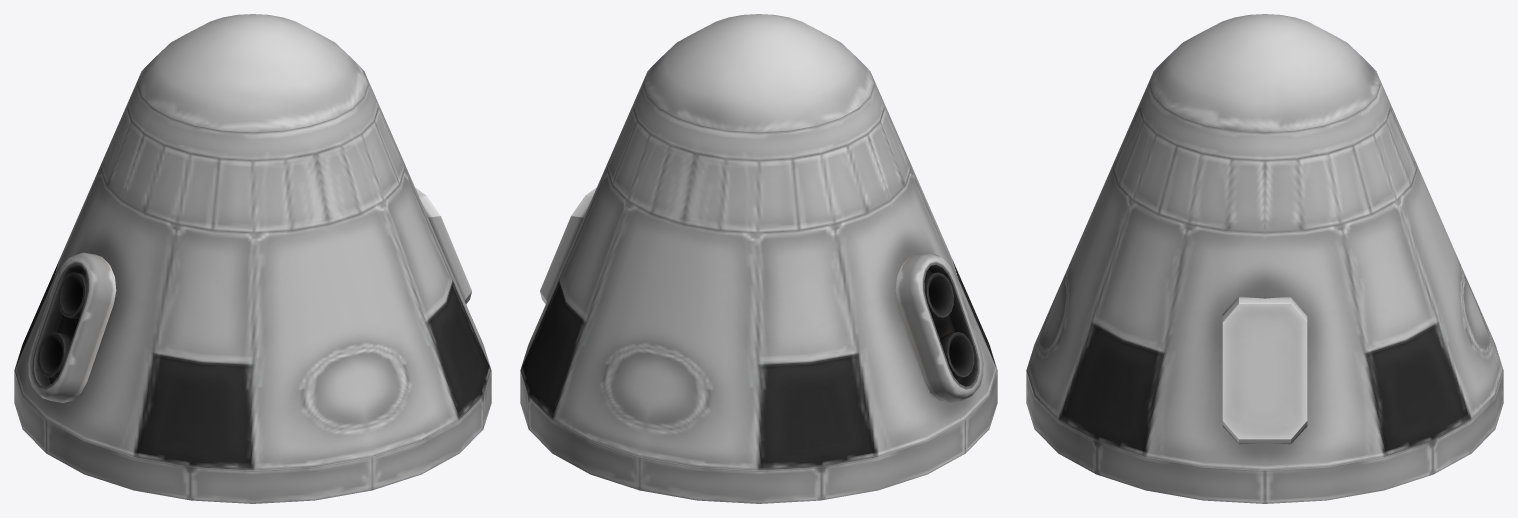
Rendered from Soltan_Nosecone.dae.
The picture shows the model from 3 angles, left to right: view 1: azimuth 30°, elevation 25°; view 2: azimuth 150°, elevation 25°; view 3: azimuth 270°, elevation 25°; orthographic projection.
Visible parts, largest first — view 1: Soltan_Nosecone, Titan_Aft_Separatron2, pCube58, thrustTransform_ncl1_1, thrustTransform; view 2: Soltan_Nosecone, Titan_Aft_Separatron2, pCube58, thrustTransform_ncl1_1, thrustTransform; view 3: Soltan_Nosecone, pCube58.
Boxes of the visible parts, <box> form: Soltan_Nosecone: <box>14,14,491,503</box>; Titan_Aft_Separatron2: <box>28,252,116,402</box>; pCube58: <box>415,187,471,304</box>; thrustTransform_ncl1_1: <box>37,332,71,378</box>; thrustTransform: <box>58,272,87,318</box>; Soltan_Nosecone: <box>520,14,997,503</box>; Titan_Aft_Separatron2: <box>895,252,983,402</box>; pCube58: <box>540,187,596,304</box>; thrustTransform_ncl1_1: <box>940,332,974,378</box>; thrustTransform: <box>924,272,953,318</box>; Soltan_Nosecone: <box>1026,14,1503,503</box>; pCube58: <box>1222,296,1307,444</box>.
Size of the model in its own units: 1.53 by 1.32 by 1.5.
